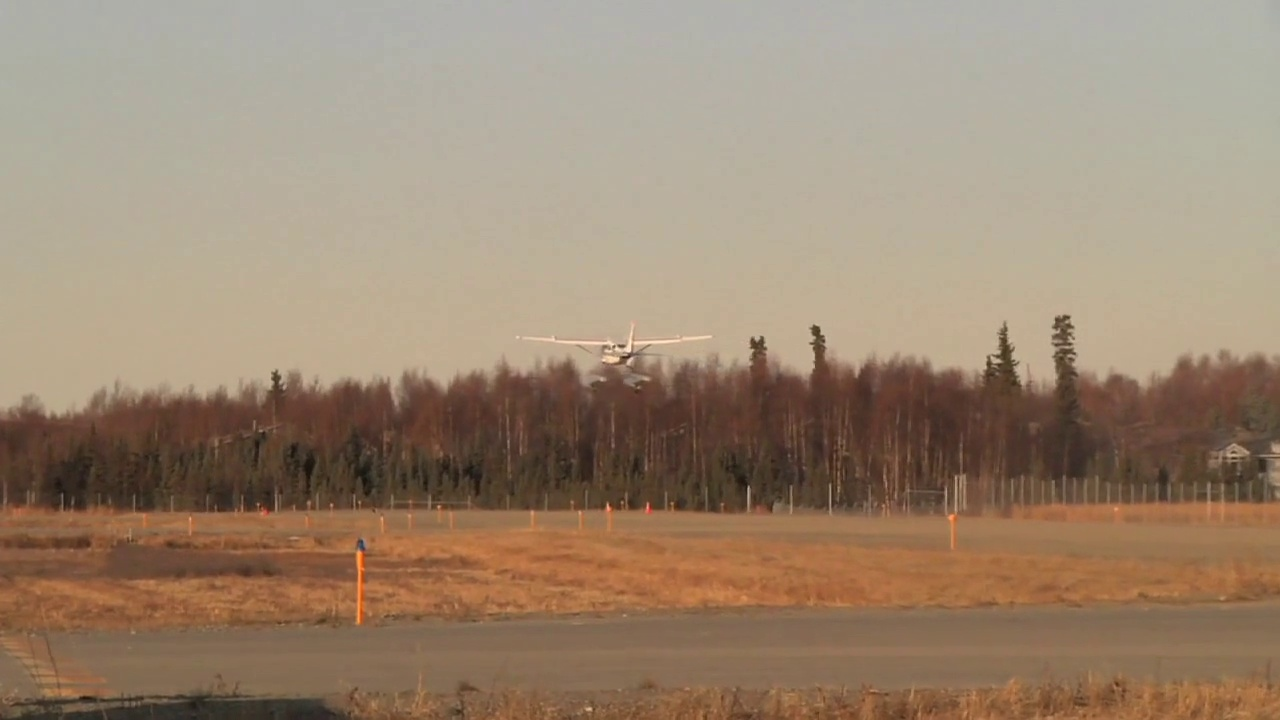plane: (511, 320, 710, 388)
